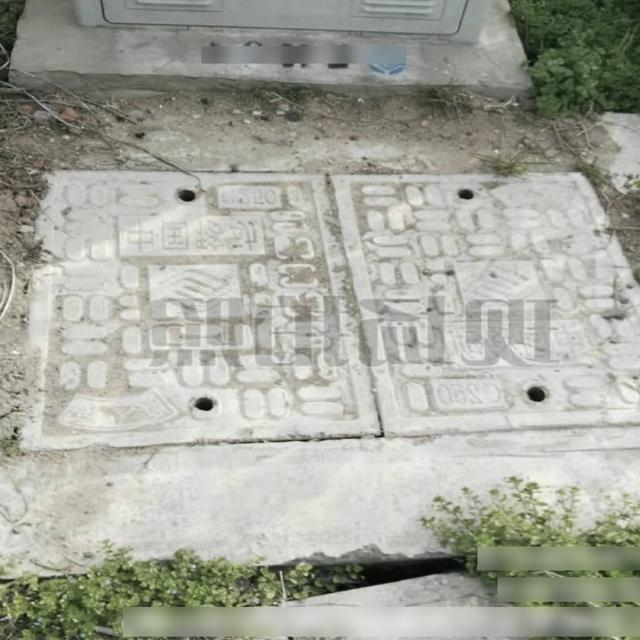good: (18, 168, 640, 459)
